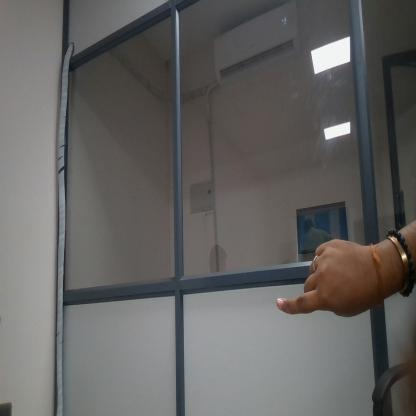Right: (274, 228, 376, 329)
